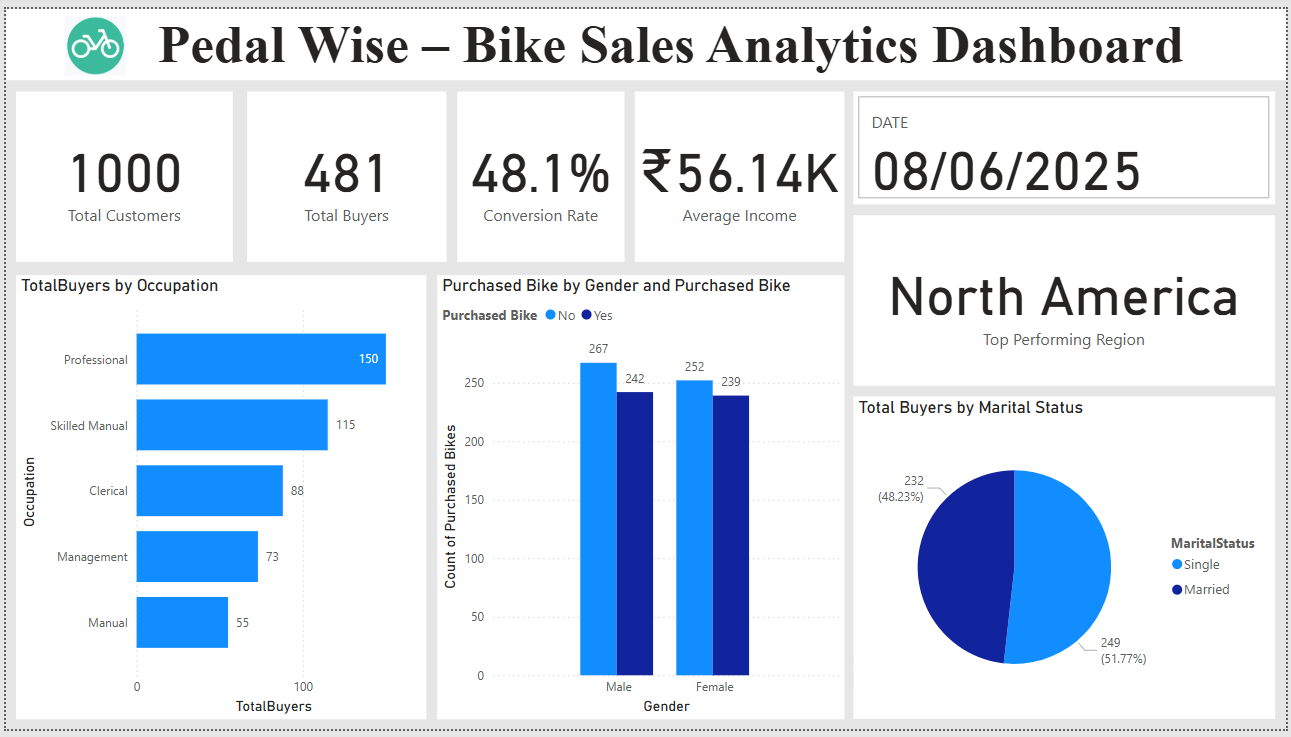

What the dashboard file says about the page in this screenshot:
{"tool":"powerbi","page":{"name":"\tOverview","canvas":[1280,720],"ordinal":0},"visuals":[{"type":"textbox","box":[0,0,1280.3,71.4],"z":0},{"type":"card","fields":{"Values":["bike_buyers.Total_Buyers"]},"box":[241.5,82.3,199,170.2],"z":1000},{"type":"card","fields":{"Values":["Avg(bike_buyers.Income)"]},"box":[628.5,82.3,209.9,170.2],"z":2000},{"type":"card","fields":{"Values":["bike_buyers.TotalCustomers"]},"box":[9.6,82.3,216.8,170.2],"z":3000},{"type":"card","fields":{"Values":["bike_buyers.ConversionRate"]},"box":[451.5,82.3,167.4,170.2],"z":4000},{"type":"clusteredColumnChart","title":"Purchased Bike by Gender and Purchased Bike","fields":{"Category":["bike_buyers.Gender"],"Y":["CountNonNull(bike_buyers.PurchasedBike)"],"Series":["bike_buyers.PurchasedBike"]},"box":[431.2,266.2,407.5,443.8],"z":5000},{"type":"pieChart","title":"Total Buyers by Marital Status","fields":{"Category":["bike_buyers.MaritalStatus"],"Y":["bike_buyers.TotalBuyers"]},"box":[848,387,421.3,322.5],"z":6000},{"type":"card","fields":{"Values":["bike_buyers.Top_Performing_Region"]},"box":[848,205.8,421.3,170.2],"z":7001},{"type":"image","box":[0,2.7,178.4,68.6],"z":7002},{"type":"cardVisual","fields":{"Data":["bike_buyers.DATE"]},"box":[848,82.3,421.3,112.5],"z":7003},{"type":"clusteredBarChart","fields":{"Category":["bike_buyers.Occupation"],"Y":["bike_buyers.TotalBuyers"]},"box":[10,266.2,410,443.8],"z":7014}]}

Visuals, with their boxes in screenshot pixels (x1, y1, x2, y2), scaled from the page's 1280x720 canvas onto the 1291x737 screenshot:
textbox: bbox=(0, 0, 1290, 73)
card - bike_buyers.Total_Buyers: bbox=(244, 84, 444, 258)
card - Avg(bike_buyers.Income): bbox=(634, 84, 846, 258)
card - bike_buyers.TotalCustomers: bbox=(10, 84, 228, 258)
card - bike_buyers.ConversionRate: bbox=(455, 84, 624, 258)
"Purchased Bike by Gender and Purchased Bike" clusteredColumnChart: bbox=(435, 272, 846, 727)
"Total Buyers by Marital Status" pieChart: bbox=(855, 396, 1280, 726)
card - bike_buyers.Top_Performing_Region: bbox=(855, 211, 1280, 385)
image: bbox=(0, 3, 180, 73)
cardVisual - bike_buyers.DATE: bbox=(855, 84, 1280, 199)
clusteredBarChart - bike_buyers.Occupation x bike_buyers.TotalBuyers: bbox=(10, 272, 424, 727)
